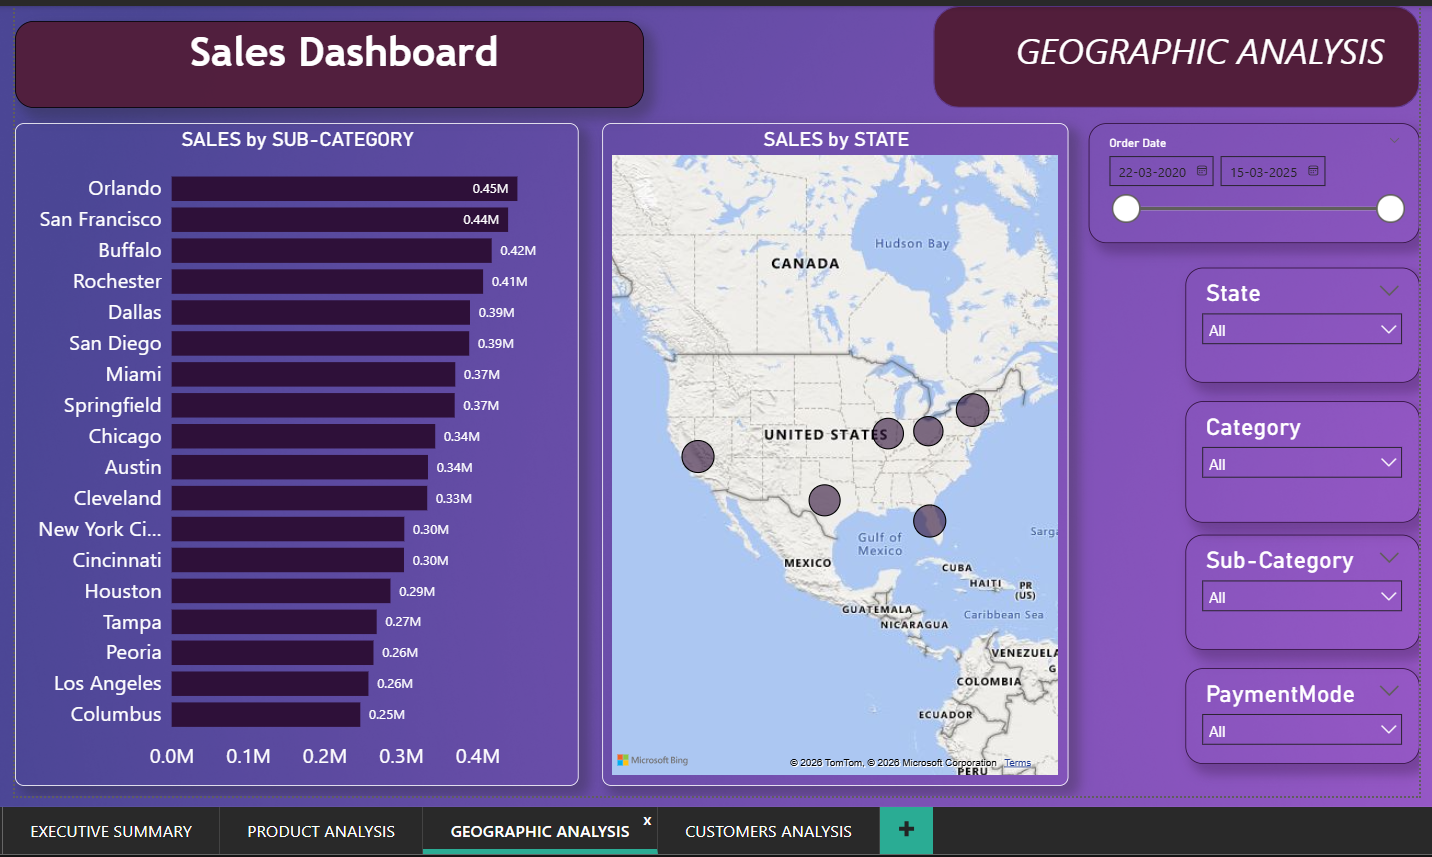

This screenshot's page, from the dashboard's own definition file:
{"tool":"powerbi","page":{"name":"GEOGRAPHIC ANALYSIS","canvas":[1280,720],"ordinal":2},"visuals":[{"type":"textbox","box":[0,13.4,573.2,79],"z":0},{"type":"slicer","fields":{"Values":["Sales Dataset.Order Date"]},"box":[978.1,106.7,302,109.4],"z":1000},{"type":"slicer","fields":{"Values":["Sales Dataset.Category"]},"box":[1066.7,360.2,213.3,110.8],"z":2000},{"type":"slicer","fields":{"Values":["Sales Dataset.Sub-Category"]},"box":[1066.7,482.1,213.3,105.3],"z":3000},{"type":"slicer","fields":{"Values":["Sales Dataset.State"]},"box":[1066.7,238.3,213.3,105.3],"z":4000},{"type":"slicer","fields":{"Values":["Sales Dataset.PaymentMode"]},"box":[1066.7,604,213.3,87.3],"z":5000},{"type":"shape","box":[836.8,0,443.3,92.8],"z":6000},{"type":"textbox","box":[786.2,13.2,467.4,54.5],"z":7000},{"type":"clusteredBarChart","title":"SALES by SUB-CATEGORY","fields":{"Y":["Sales Dataset.TOTAL SALES"],"Category":["Sales Dataset.City"]},"box":[0,106.7,514,604],"z":8000},{"type":"map","title":" SALES by STATE","fields":{"Category":["Sales Dataset.State"],"Size":["Sales Dataset.TOTAL SALES"]},"box":[534.8,106.7,425.3,604],"z":8001}]}

Visuals, with their boxes on the page's 1280x720 design canvas (x1, y1, x2, y2). These are canvas units, not pixel positions in the 1432x857 screenshot, which may show the page scaled, cropped or inside an application window:
textbox: Rect(0, 13, 573, 92)
slicer - Sales Dataset.Order Date: Rect(978, 107, 1280, 216)
slicer - Sales Dataset.Category: Rect(1067, 360, 1280, 471)
slicer - Sales Dataset.Sub-Category: Rect(1067, 482, 1280, 587)
slicer - Sales Dataset.State: Rect(1067, 238, 1280, 344)
slicer - Sales Dataset.PaymentMode: Rect(1067, 604, 1280, 691)
shape: Rect(837, 0, 1280, 93)
textbox: Rect(786, 13, 1254, 68)
"SALES by SUB-CATEGORY" clusteredBarChart: Rect(0, 107, 514, 711)
" SALES by STATE" map: Rect(535, 107, 960, 711)
